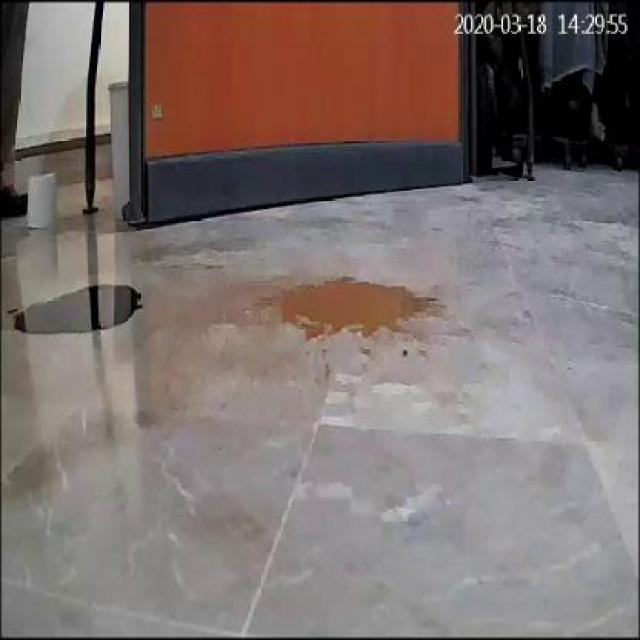spill: (271, 274, 440, 336), (9, 282, 143, 341)
